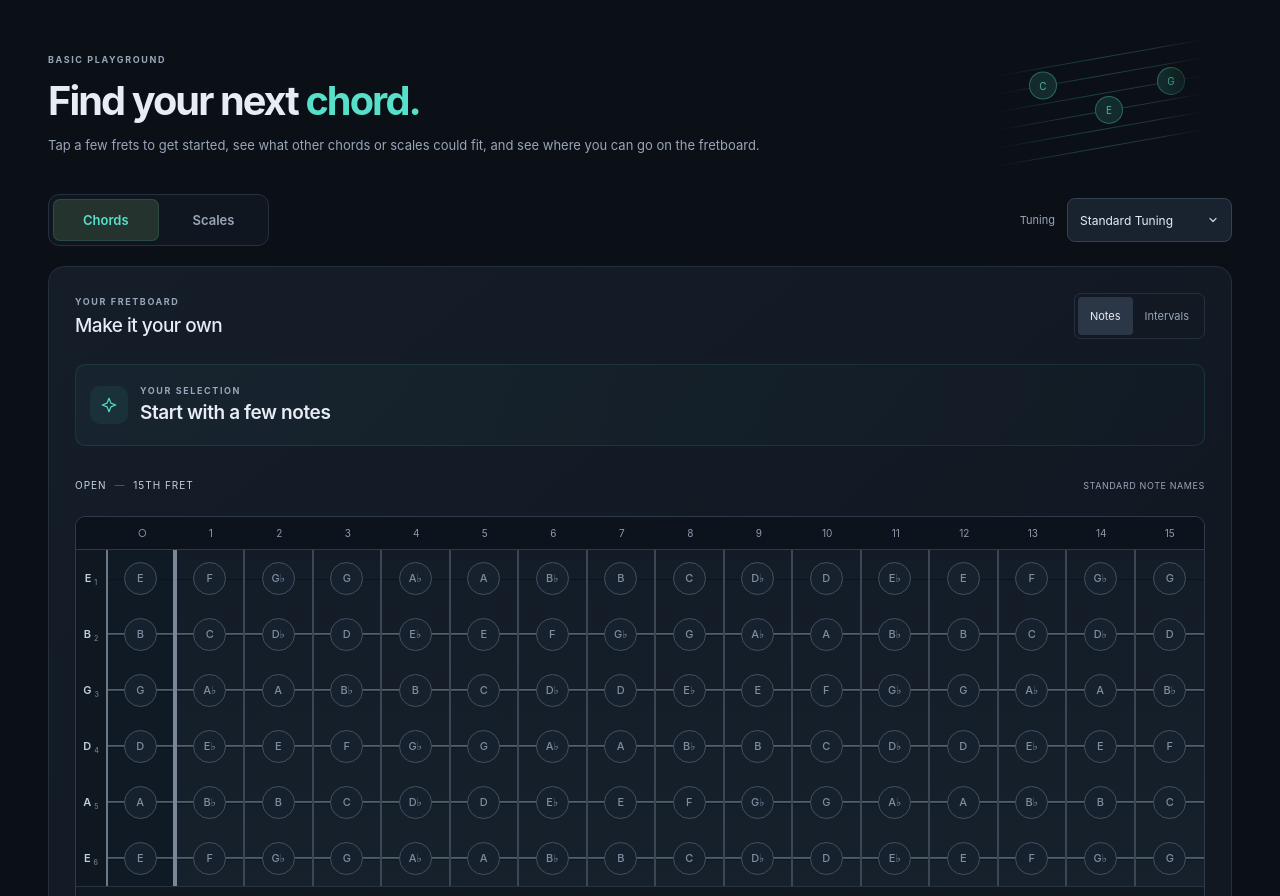
Test: unavailable WebGL is attempted once and leaves matching, clear, and undo usable
The width and height of the screenshot is (1280, 896).
Click the button named "String 5, A, fret 3, C": (348, 802) [314,774,382,830]
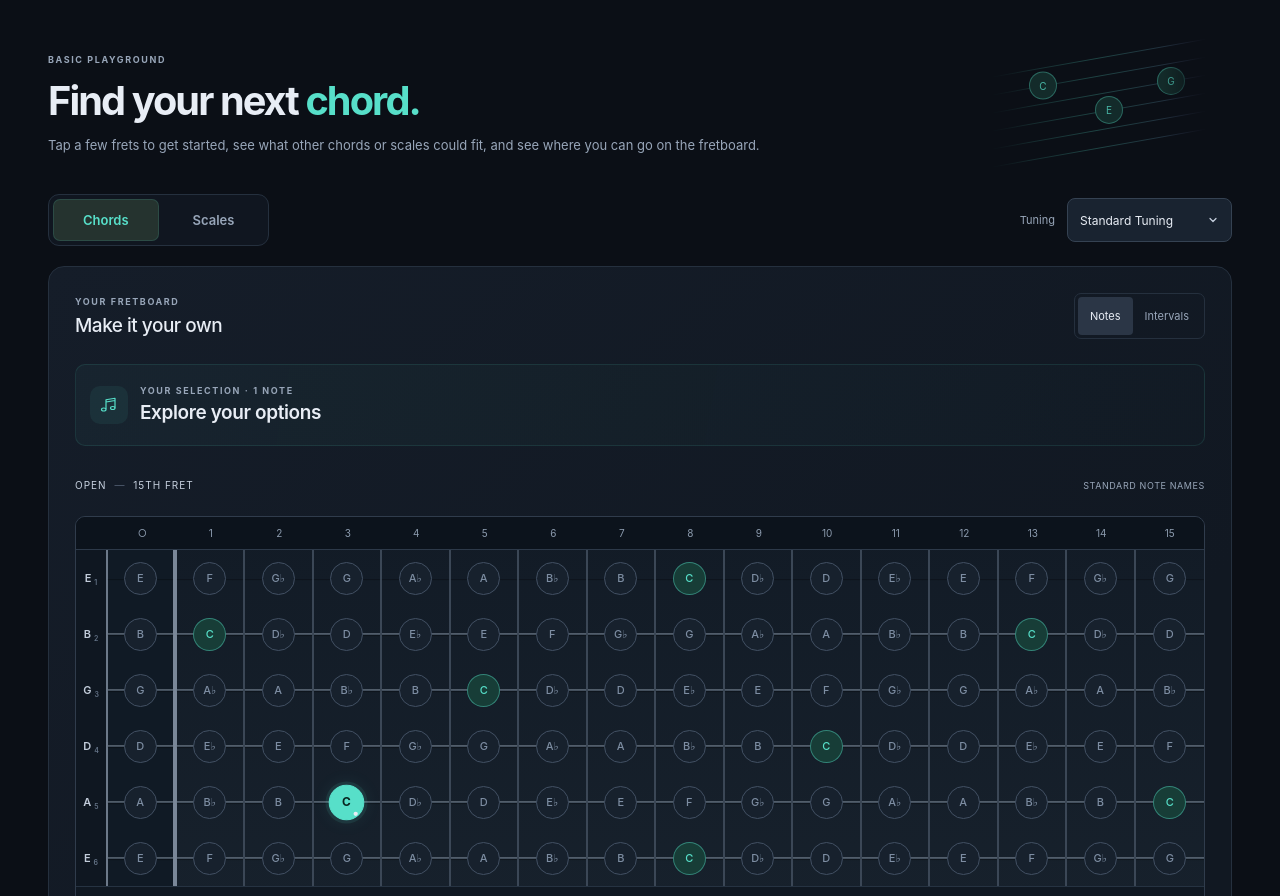
Click the button named "String 4, D, fret 2, E": (279, 746) [245,718,314,774]
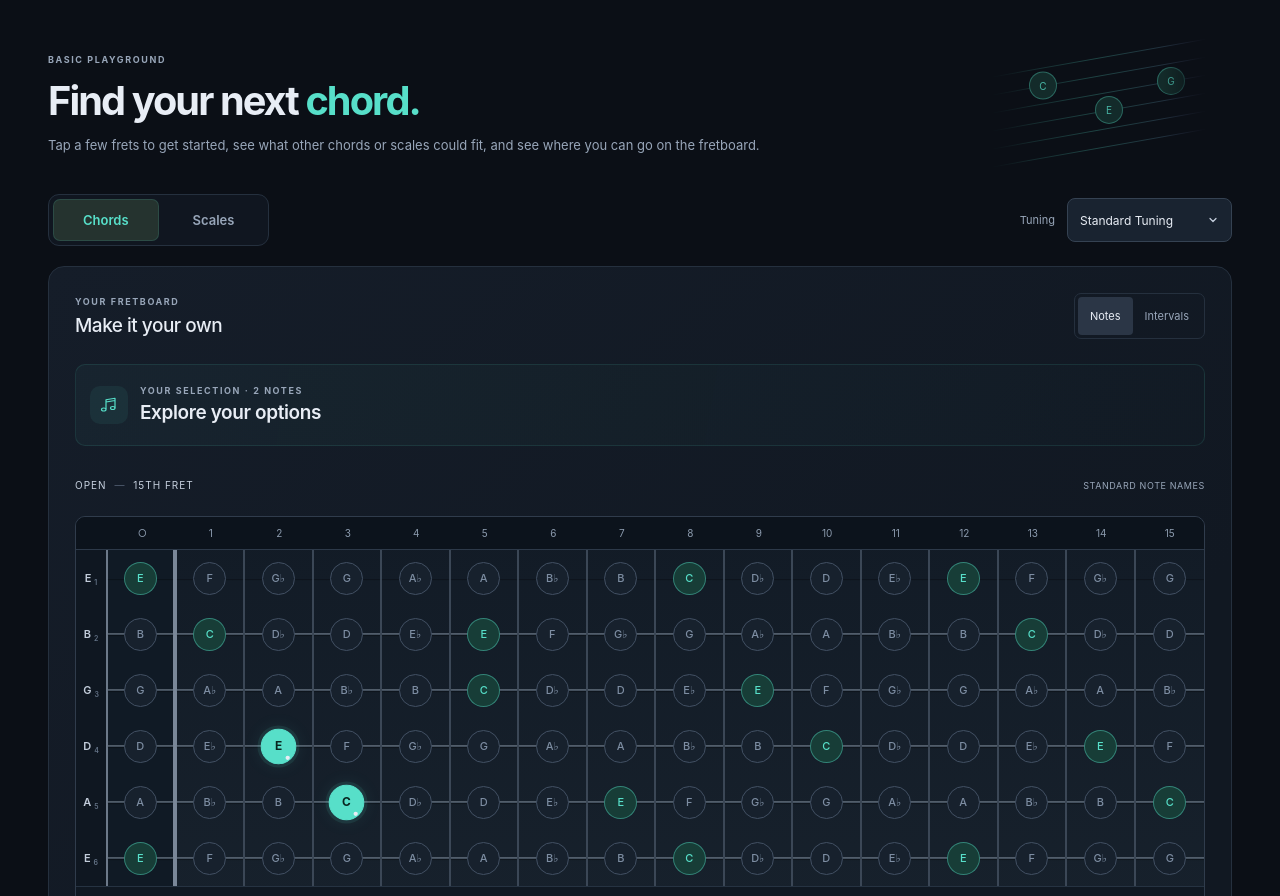
Click the button named "String 3, G, open, G": (142, 690) [108,662,176,718]
(page scrolled)
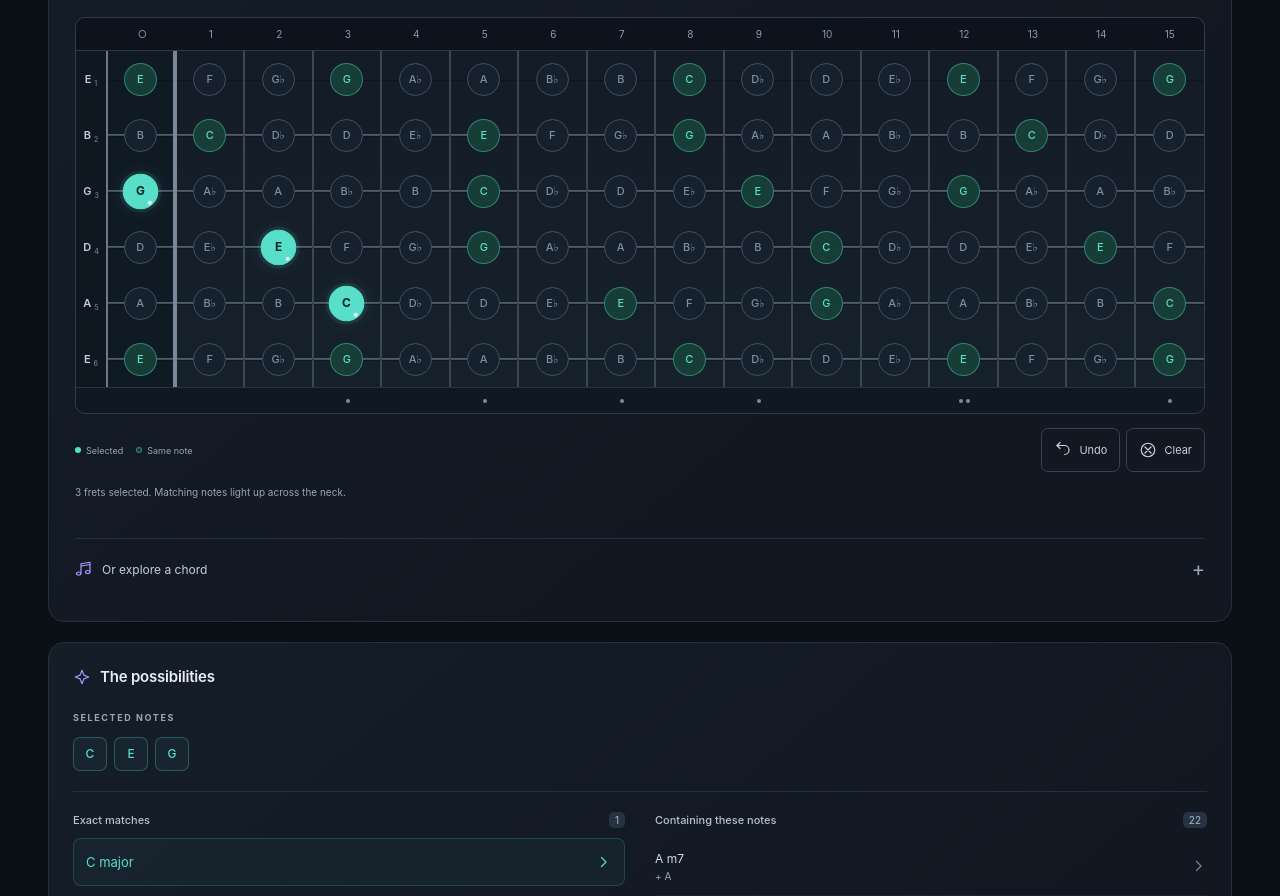
Click the button "Clear": (1166, 450) [1126,428,1205,472]
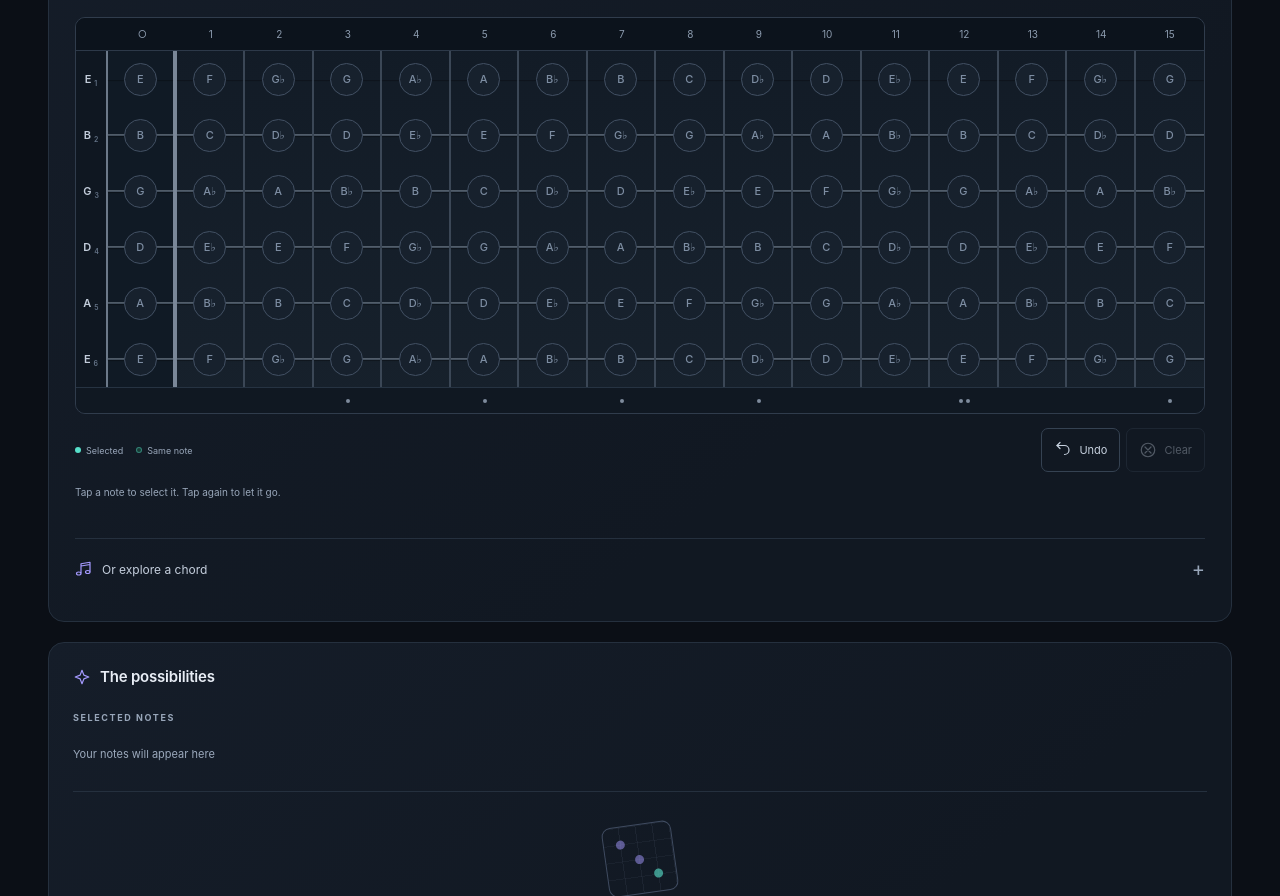
Click the button "Undo": (1081, 450) [1041,428,1120,472]
(page scrolled)
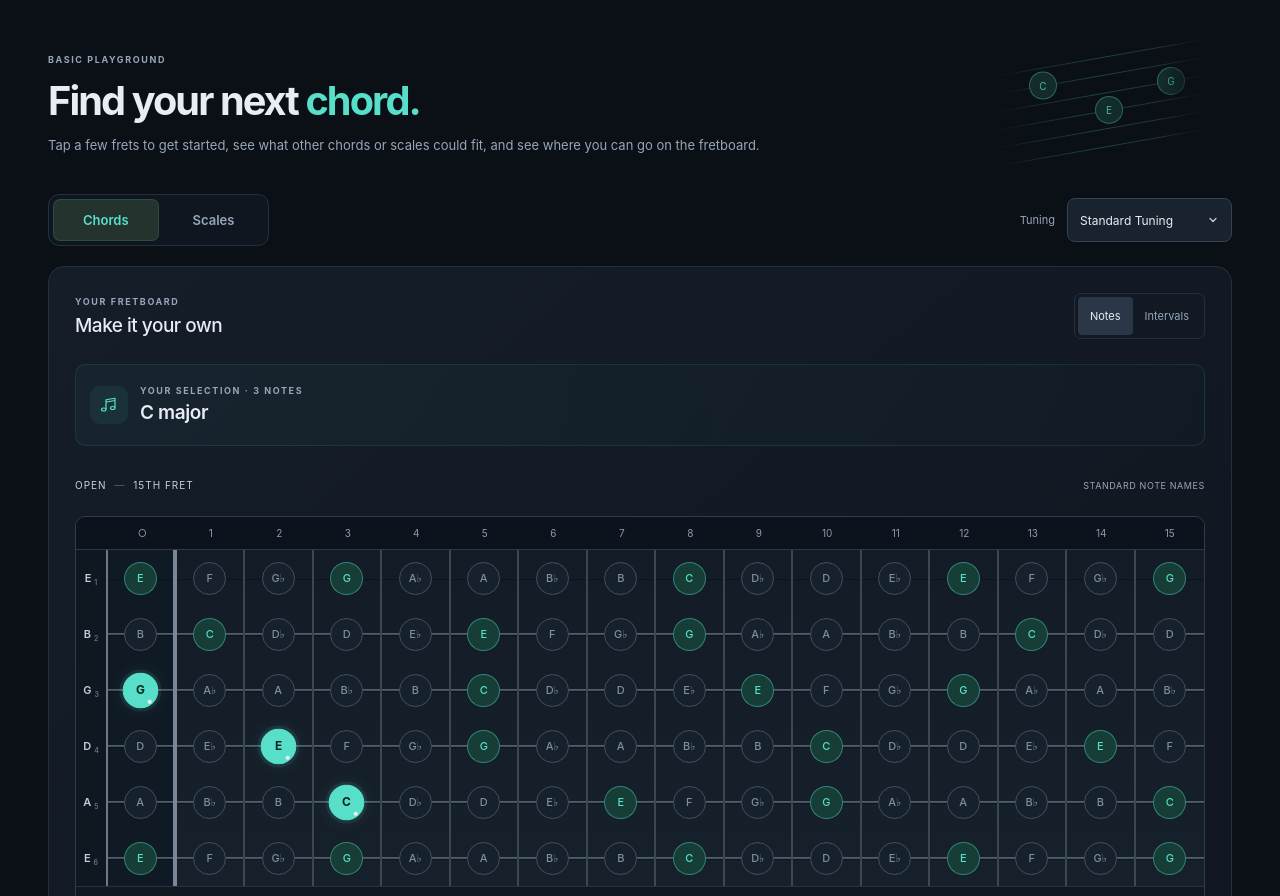
Check: the message shows "C major", box [140,401,208,424]
